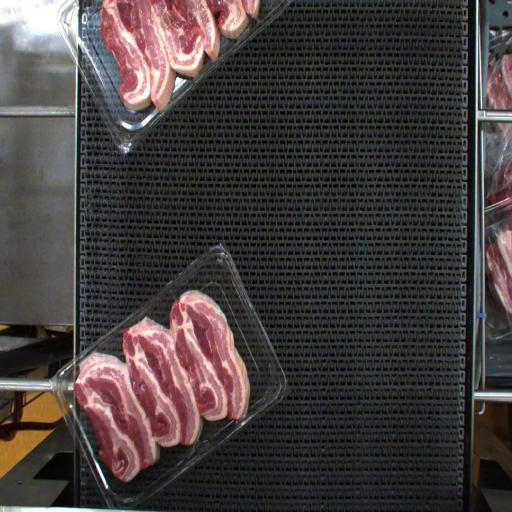packaging-error: (168, 288, 180, 302)
